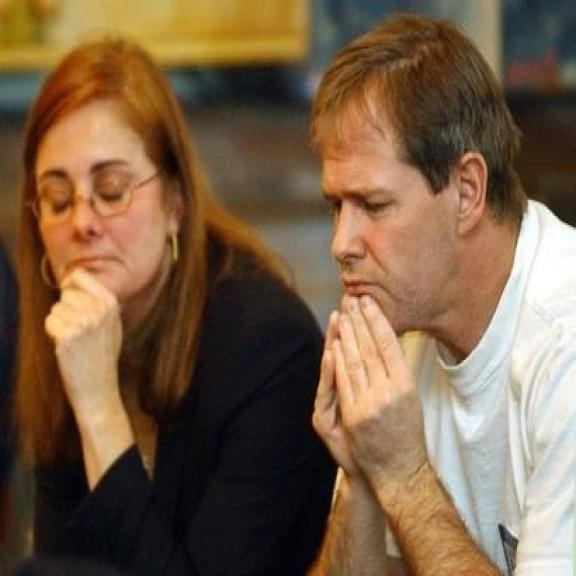face: (295, 7, 530, 356), (8, 36, 208, 322)
